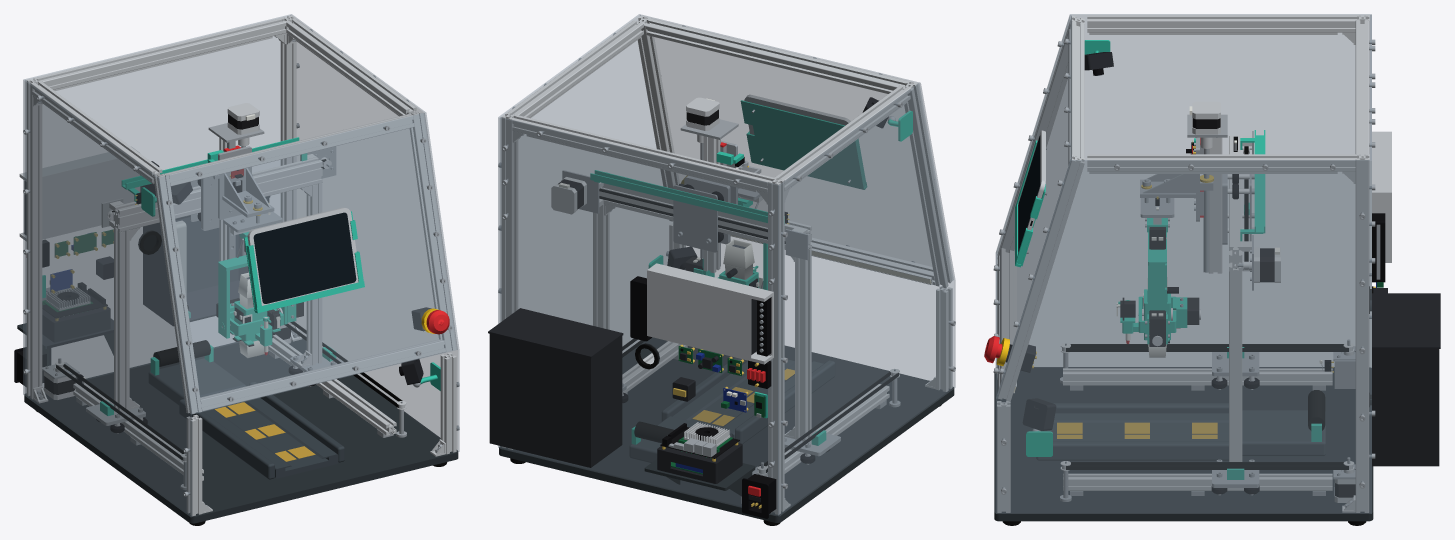
File: vscan.glb
The picture shows the model from 3 angles, left to right: view 1: azimuth 30°, elevation 25°; view 2: azimuth 150°, elevation 25°; view 3: azimuth 270°, elevation 25°; orthographic projection. The views are drawn at different scales.
Visible parts, largest first — view 1: front_panel_slanted, wall_side, wall_back, wall_side_2, base_plate, ipad_mini__screen, psu_24V_350W__case, light_box_shell, frame_post_back, arm_rest_pad, frame_top_rail_back, front_panel_rail (+36 smaller); view 2: wall_back, wall_side, front_panel_slanted, wall_side_2, base_plate, light_box_shell, psu_24V_350W__case, printed_ipad_slot, frame_post_back, front_panel_cross_rail_2, frame_top_rail_back, light_box_lid (+40 smaller); view 3: wall_side_2, wall_side, base_plate, front_panel_slanted, light_box_shell, frame_post_back_2, frame_top_rail_side, frame_top_rail_side_2, y_rail_2020, arm_rest_pad, y_rail_2020_2, light_box_lid (+40 smaller).
Part boxes in pixels (left/top/right/bottom): front_panel_slanted: left=159, top=113, right=457, bottom=414; wall_side: left=23, top=79, right=191, bottom=516; wall_back: left=25, top=14, right=290, bottom=393; wall_side_2: left=290, top=14, right=459, bottom=451; base_plate: left=24, top=338, right=458, bottom=523; ipad_mini__screen: left=253, top=212, right=356, bottom=303; psu_24V_350W__case: left=19, top=146, right=139, bottom=240; light_box_shell: left=143, top=198, right=268, bottom=325; frame_post_back: left=26, top=77, right=42, bottom=399; arm_rest_pad: left=203, top=397, right=338, bottom=478; frame_top_rail_back: left=37, top=18, right=286, bottom=89; front_panel_rail: left=153, top=173, right=201, bottom=413; wall_back: left=500, top=117, right=778, bottom=515; wall_side: left=778, top=82, right=955, bottom=515; front_panel_slanted: left=640, top=15, right=953, bottom=280; wall_side_2: left=498, top=14, right=672, bottom=447; base_plate: left=499, top=337, right=954, bottom=522; light_box_shell: left=489, top=334, right=622, bottom=467; psu_24V_350W__case: left=647, top=263, right=773, bottom=364; printed_ipad_slot: left=740, top=100, right=866, bottom=189; frame_post_back: left=768, top=177, right=784, bottom=514; front_panel_cross_rail_2: left=645, top=18, right=906, bottom=93; frame_top_rail_back: left=512, top=115, right=773, bottom=192; light_box_lid: left=488, top=308, right=623, bottom=358; wall_side_2: left=996, top=160, right=1371, bottom=513; wall_side: left=996, top=14, right=1371, bottom=367; base_plate: left=994, top=367, right=1373, bottom=521; front_panel_slanted: left=996, top=15, right=1071, bottom=398; light_box_shell: left=1372, top=349, right=1439, bottom=466; frame_post_back_2: left=1355, top=154, right=1369, bottom=512; frame_top_rail_side: left=1087, top=15, right=1355, bottom=32; frame_top_rail_side_2: left=1087, top=154, right=1355, bottom=171; y_rail_2020: left=1063, top=368, right=1332, bottom=385; arm_rest_pad: left=1041, top=413, right=1228, bottom=441; y_rail_2020_2: left=1063, top=473, right=1332, bottom=490; light_box_lid: left=1372, top=293, right=1440, bottom=348.
Size of the model in its own units: 526 by 604 by 677.
